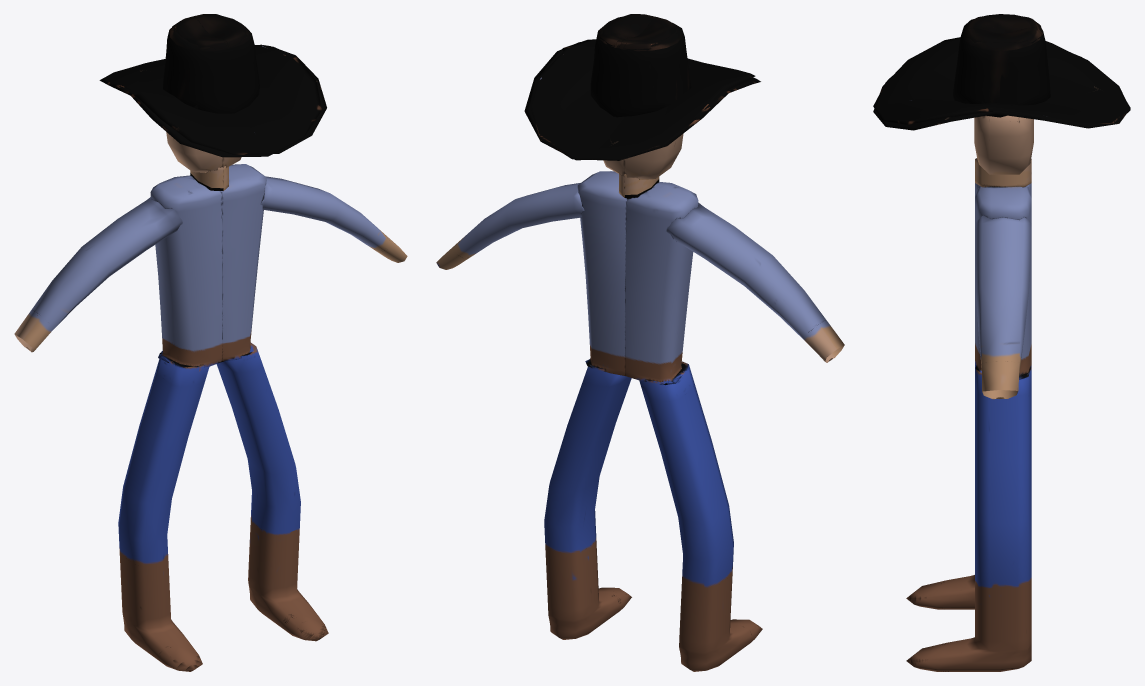
The model's file is cowboy.fbx.
The picture shows the model from 3 angles, left to right: view 1: azimuth 30°, elevation 25°; view 2: azimuth 150°, elevation 25°; view 3: azimuth 270°, elevation 25°; orthographic projection. The views are drawn at different scales.
Parts seen in each view (by area): view 1: Cube.001; view 2: Cube.001; view 3: Cube.001.
Part boxes in pixels (x1,y1,x2,y2): Cube.001: (14, 14, 407, 671); Cube.001: (436, 14, 844, 671); Cube.001: (873, 14, 1130, 671).
Size of the model in its own units: 647 by 981 by 376.
